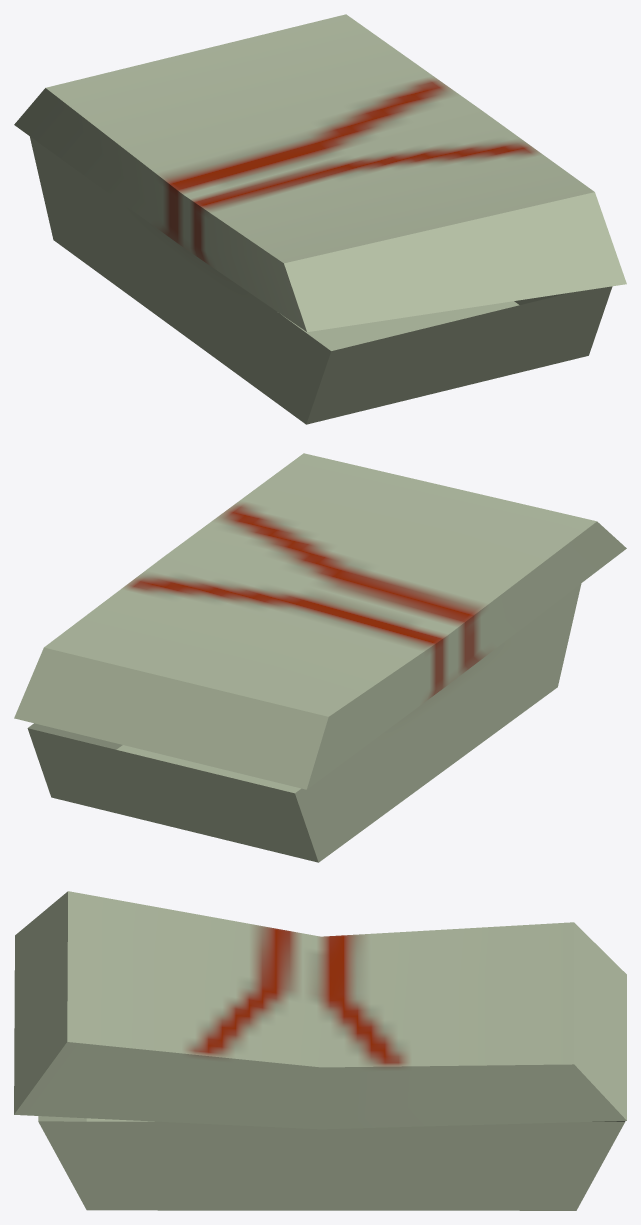
Rendered from Empty_Foodbox.glb.
3 renders of one model, top to bottom at view 1: azimuth 30°, elevation 25°; view 2: azimuth 150°, elevation 25°; view 3: azimuth 270°, elevation 25°, orthographic. The views are drawn at different scales.
Visible parts, largest first — view 1: empty_foodbox_01_geo.001; view 2: empty_foodbox_01_geo.001; view 3: empty_foodbox_01_geo.001.
Part boxes in pixels (bbox=[...]): empty_foodbox_01_geo.001: bbox=[14, 14, 626, 424]; empty_foodbox_01_geo.001: bbox=[14, 453, 626, 862]; empty_foodbox_01_geo.001: bbox=[14, 891, 626, 1210].
Size of what is drawn, in the model's own units: 0.2116 by 0.1075 by 0.3492.
Materials: 1 (1 with a texture image).
